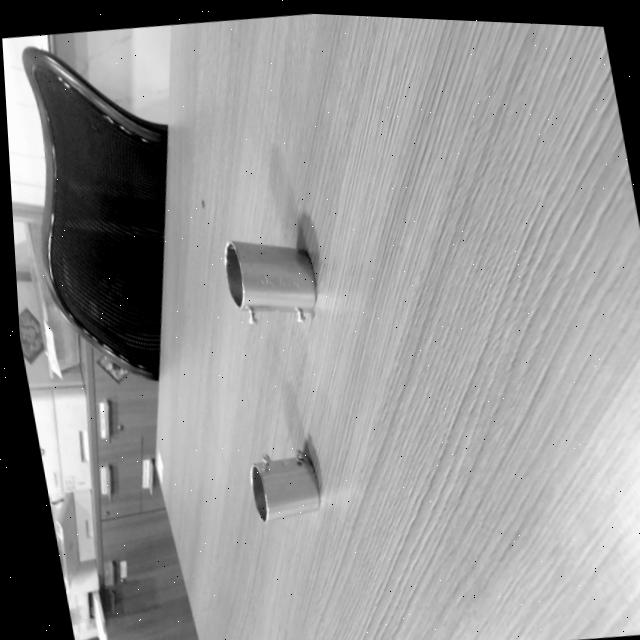Co_Lon: (224, 238, 317, 322)
Co_Nho: (245, 443, 324, 523)
